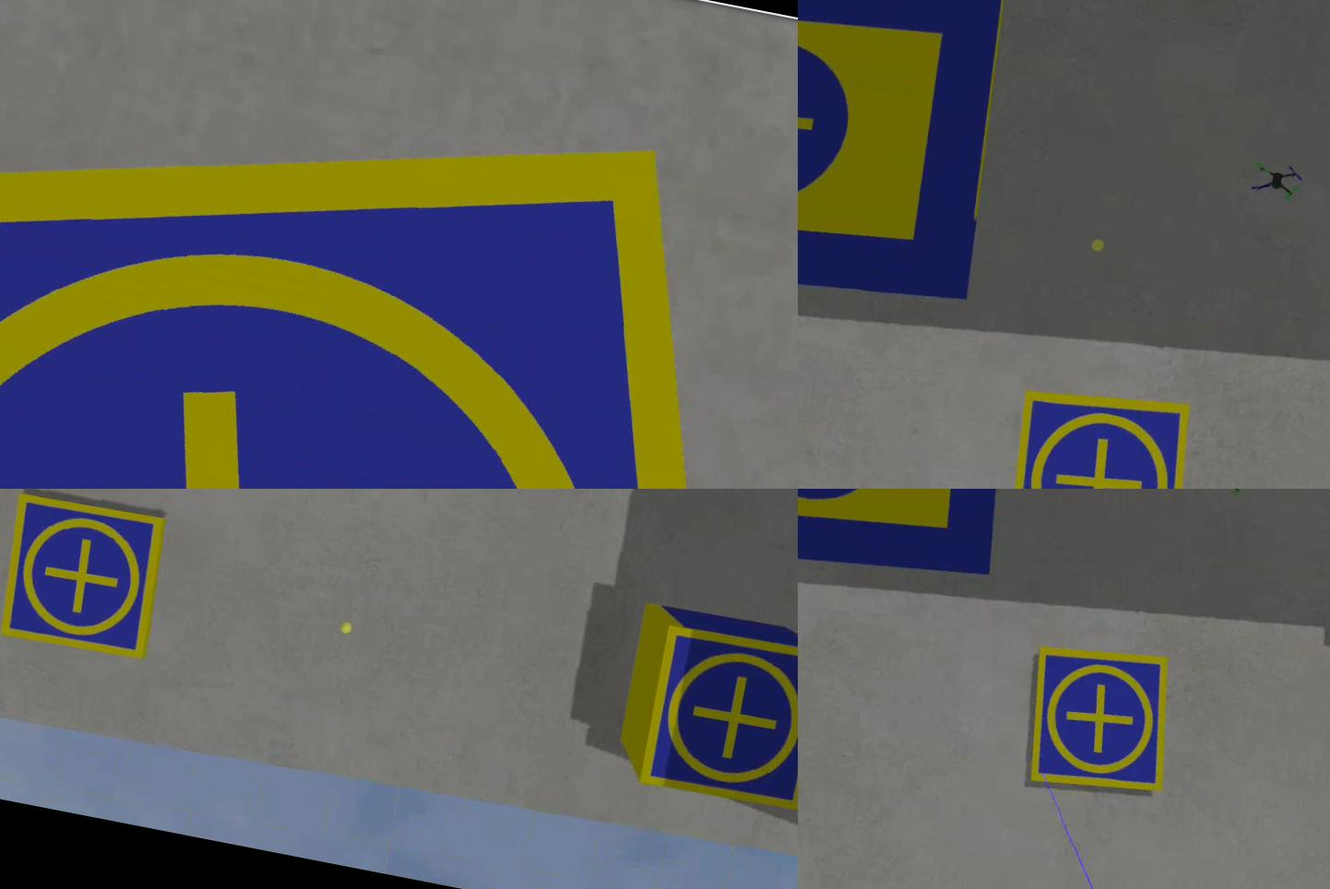large_base: (799, 1, 1027, 353)
small_base: (1, 1, 799, 490), (635, 621, 799, 818), (1, 490, 174, 667), (1013, 634, 1186, 811), (992, 370, 1208, 490)
